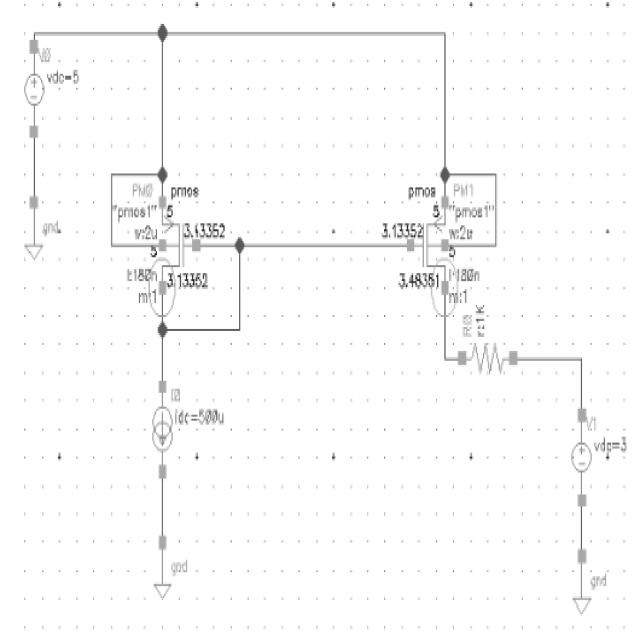gnd: (146, 536, 173, 606), (22, 195, 46, 266), (572, 544, 592, 616)
idc: (148, 378, 177, 483)
pmos: (156, 196, 204, 305), (405, 198, 450, 302)
res: (454, 340, 523, 382)
vdc: (564, 406, 596, 508), (20, 42, 48, 144)
